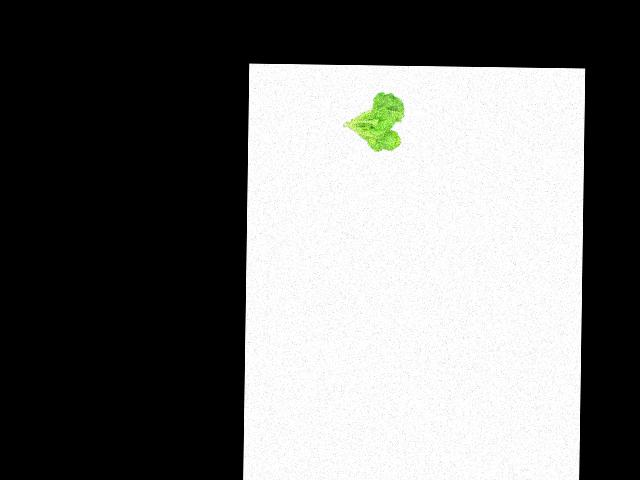lettuce: (340, 88, 408, 154)
